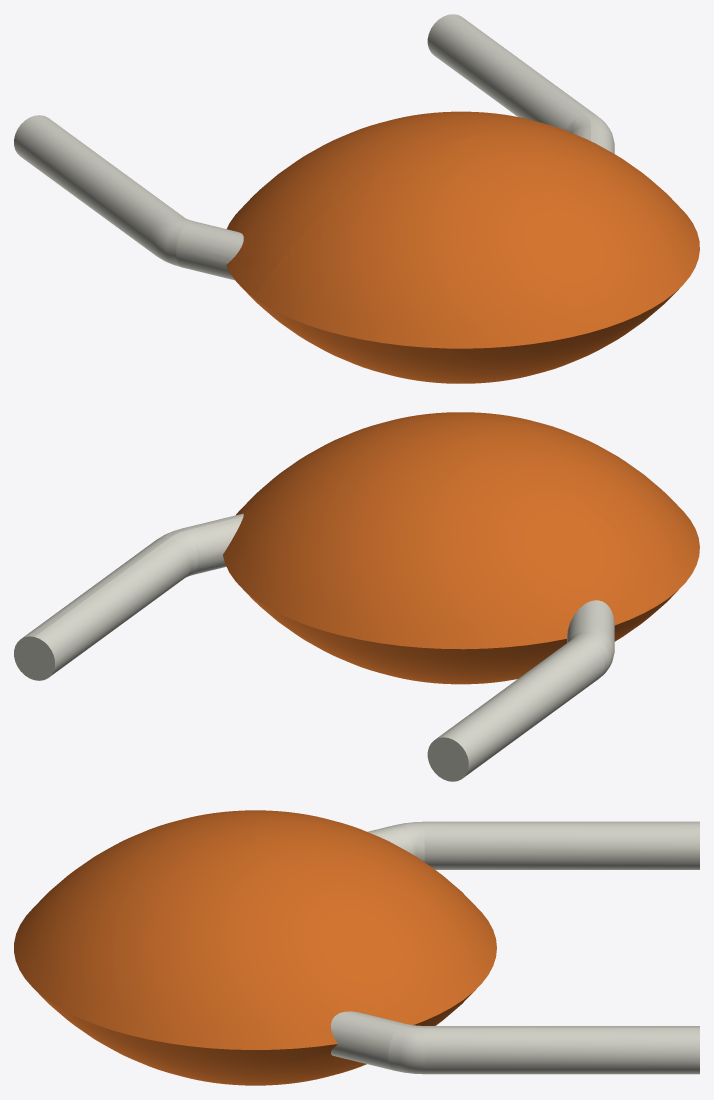
File: C_Disc_D5.0mm_W2.5mm_P5.00mm.glb
3 views of the same model, one above another, from view 1: azimuth 30°, elevation 25°; view 2: azimuth 150°, elevation 25°; view 3: azimuth 270°, elevation 25° (orthographic).
Visible parts, largest first — view 1: C_Disc_D50mm_W25mm_P500mm; view 2: C_Disc_D50mm_W25mm_P500mm; view 3: C_Disc_D50mm_W25mm_P500mm.
Part boxes in pixels (left/top/right/bottom): C_Disc_D50mm_W25mm_P500mm: left=14, top=14, right=699, bottom=383; C_Disc_D50mm_W25mm_P500mm: left=14, top=412, right=699, bottom=781; C_Disc_D50mm_W25mm_P500mm: left=14, top=810, right=699, bottom=1085.
Bounding box in the file's own units: 5.5 × 2.5 × 7.1.
